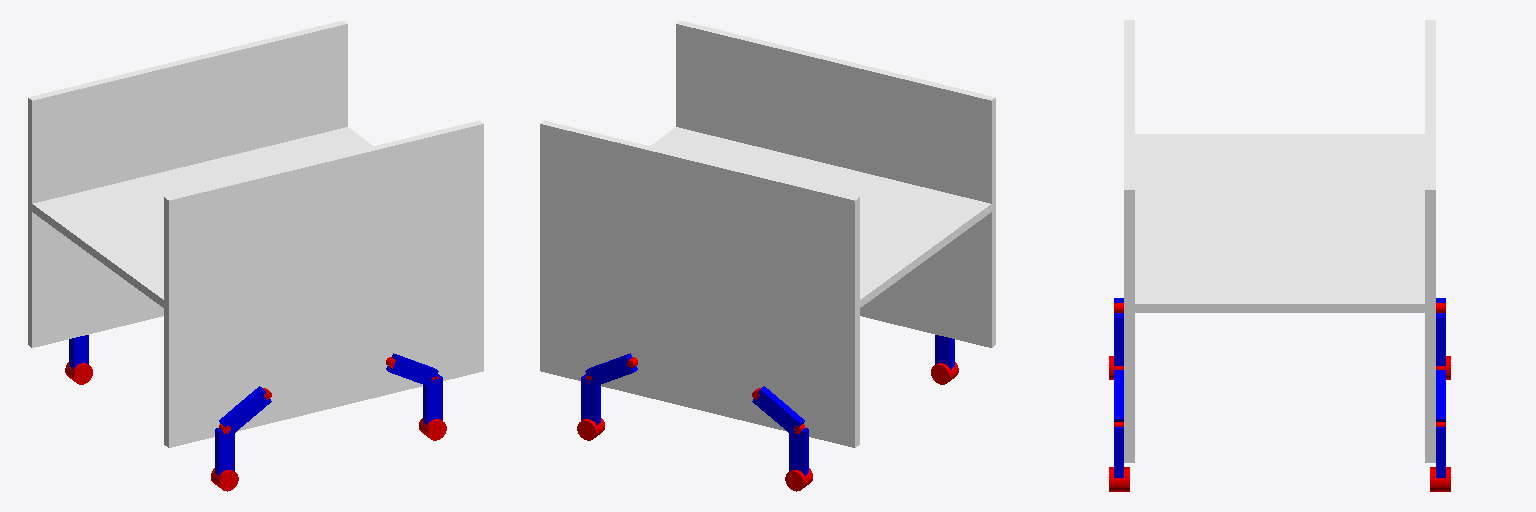
--- Render facts (derived) ---
The picture shows the robot from 3 angles, left to right: view 1: azimuth 30°, elevation 25°; view 2: azimuth 150°, elevation 25°; view 3: azimuth 270°, elevation 25°; orthographic projection.
Model anymal with 31 links and 30 joints (8 revolute, 22 fixed), rooted at base, posed every joint at zero.
Visible links, largest first — view 1: base_right, base_left, base, LF_THIGH_fixed, LH_THIGH_fixed, LF_SHANK_fixed, LH_SHANK_fixed, RF_SHANK_fixed; view 2: base_left, base_right, base, RF_THIGH_fixed, RH_THIGH_fixed, RH_SHANK_fixed, RF_SHANK_fixed, LF_SHANK_fixed; view 3: base, base_left, base_right.
Boxes of the visible links, x1,y1,x2,y2 form: base_right: (164, 120, 483, 447); base_left: (28, 21, 347, 347); base: (30, 127, 372, 309); LF_THIGH_fixed: (219, 386, 271, 435); LH_THIGH_fixed: (386, 353, 438, 385); LF_SHANK_fixed: (215, 428, 234, 475); LH_SHANK_fixed: (423, 374, 442, 424); RF_SHANK_fixed: (69, 335, 88, 369); base_left: (540, 120, 859, 447); base_right: (676, 21, 995, 347); base: (651, 127, 993, 309); RF_THIGH_fixed: (752, 386, 804, 435); RH_THIGH_fixed: (585, 353, 637, 385); RH_SHANK_fixed: (581, 374, 600, 424); RF_SHANK_fixed: (789, 428, 808, 475); LF_SHANK_fixed: (935, 335, 954, 369); base: (1130, 134, 1429, 312); base_left: (1425, 20, 1435, 462); base_right: (1124, 20, 1134, 462).
Bounding box of the posed robot: 0.02 × 0.017 × 0.0181 m (x, y, z).
Geometry: primitives only (box / cylinder / sphere), no mesh files.

URDF robot description (anymal):
<?xml version="1.0" encoding="utf-8"?>
<!-- =================================================================================== -->
<!--   Copyright 2020 ANYbotics, https://www.anybotics.com                               -->
<!-- =================================================================================== -->
<!-- This file contains the description of the ANYmal C robot. -->
<robot name="anymal">
    <!-- Base link -->
    <link name="base">
        <visual>
            <origin rpy="0 0 0" xyz="0 0 0"/>
            <geometry>
                <box size = "0.02 0.015 0.5e-3"/>
            </geometry>
            <material name="Cyan">
                <color rgba="1.0 1.0 1.0 1.0"/>
            </material>
        </visual>
        <collision>
            <origin rpy="0 0 0" xyz="0 0 0"/>
            <geometry>
                <box size = "0.02 0.015 0.013"/>
            </geometry>
        </collision>
        <inertial>
            <origin xyz="0 0 0" rpy="0 0 0"/>
            <mass value="0.539e-3"/>
            <inertia 
                ixx="31.301e-9"  
                ixy="0"  
                ixz="0" 
                iyy="41.279e-9" 
                iyz="0" 
                izz="36.6e-9" />
        </inertial>
    </link>

    <joint name="base_base_left" type="fixed">
        <parent link="base"/>lower="-0.1" upper="0.1"
        <child link="base_left"/>
        <origin rpy="-1.5707963268 0 0.0" xyz="0 -0.0075 -0.001"/>
    </joint>

    <link name="base_left">
        <visual>
            <origin rpy="0 0 0" xyz="0 0 15e-3"/>
            <geometry>
                <box size = "0.02 0.015 0.5e-3"/>
            </geometry>
            <material name="Cyan">
                <color rgba="1.0 1.0 1.0 1.0"/>
            </material>
        </visual>
        <inertial>
            <origin xyz="0 0 0" rpy="0 0 0"/>
            <mass value="0.15e-3"/>
            <inertia 
                ixx="2.82e-9"  
                ixy="0"  
                ixz="0" 
                iyy="7.81e-9" 
                iyz="0" 
                izz="5.00e-9" />
        </inertial>
    </link>

    <joint name="base_base_right" type="fixed">
        <parent link="base"/>
        <child link="base_right"/>
        <origin rpy="1.5707963268 0 0.0" xyz="0 0.0075 -0.001"/>
    </joint>

    <link name="base_right">
        <visual>
            <origin rpy="0 0 0" xyz="0 0 15e-3"/>
            <geometry>
                <box size = "0.02 0.015 0.5e-3"/>
            </geometry>
            <material name="Cyan">
                <color rgba="1.0 1.0 1.0 1.0"/>
            </material>
        </visual>
        <inertial>
            <origin xyz="0 0 0" rpy="0 0 0"/>
            <mass value="0.15e-3"/>
            <inertia 
                ixx="2.82e-9"  
                ixy="0"  
                ixz="0" 
                iyy="7.81e-9" 
                iyz="0" 
                izz="5.00e-9" />
        </inertial>
    </link>

    <!--              -->
    <!-- Left Front Leg -->
    <!--              -->

    <!-- [rad] -->
    <!-- joint base HAA -->
    <joint name="base_LF_HFE" type="fixed">
        <parent link="base_left"/>
        <child link="LF_HFE"/>
        <origin rpy="0 0 -2.0943951023931" xyz="-0.004 0.0055 -0.0005"/>
    </joint>
    <!-- [m] -->
    <!-- [A] -->
    <!-- Drive Input Link -->
    <link name="LF_HFE">
        <visual>
            <origin rpy="0 0 0" xyz="0 0 0"/>
            <geometry>
                <cylinder length="0.5e-3" radius="0.25e-3"/>
            </geometry>
            <material name="Red">
                <color rgba="1.0 0.0 0.0 1.0"/>
            </material>
        </visual>
    </link>
    <!-- joint Drive output -->
    <joint name="LF_HFE" type="revolute">
        <parent link="LF_HFE"/>
        <child link="LF_THIGH"/>
        <origin rpy="0 0 0" xyz="0 0 0"/>
        <axis xyz="0 0 1"/>
        <limit effort="80.0" velocity="20." lower="-0.1" upper="0.1"/>
        <dynamics damping="0.0" friction="0.0"/>
    </joint>
    <!-- Drive Output Link -->
    <link name="LF_THIGH">
        <visual>
            <origin rpy="0 0 0" xyz="0 0 0"/>
            <geometry>
                <cylinder length="0.5e-3" radius="0.25e-3"/>
            </geometry>
            <material name="Red">
                <color rgba="1.0 0.0 0.0 0.8"/>
            </material>
        </visual>
    </link>
    <joint name="LF_THIGH_LF_THIGH_fixed" type="fixed">
        <parent link="LF_THIGH"/>
        <child link="LF_THIGH_fixed"/>
        <origin rpy="0 0 1.5707963268" xyz="0 -1.5e-3 0"/>
    </joint>
    <link name="LF_THIGH_fixed">
        <visual>
            <origin rpy="0 0 0" xyz="0 0 0"/>
            <geometry>
                <box size = "3e-3 1e-3 0.5e-3"/>
            </geometry>
            <material name="Blue">
                <color rgba="0.0 0.0 1.0 0.8"/>
            </material>
        </visual>
        <inertial>
            <origin rpy="0 0 0" xyz="-0.06639 7e-05 0.00046"/>
            <mass value="0.002e-9"/>
        <inertia 
            ixx="0.002e-9" 
            ixy="0" 
            ixz="0" 
            iyy="0.002e-9" 
            iyz="0" 
            izz="0.002e-9"/>
        </inertial>
    </link>
    <joint name="LF_THIGH_fixed_LF_KFE" type="fixed">
        <parent link="LF_THIGH_fixed"/>
        <child link="LF_KFE"/>
        <origin rpy="0 0 0.5235987755982988" xyz="-1.5e-3 0 0"/>
    </joint>
    <!-- [m] -->
    <!-- [A] -->
    <!-- Drive Input Link -->
    <link name="LF_KFE">
        <visual>
            <origin rpy="0 0 0" xyz="0 0 0"/>
            <geometry>
                <cylinder length="0.5e-3" radius="0.25e-3"/>
            </geometry>
            <material name="Red">
                <color rgba="1.0 0.0 0.0 0.8"/>
            </material>
        </visual>
        <collision>
            <origin rpy="0 0 0" xyz="0 0 0"/>
            <geometry>
                <cylinder length="0.5e-3" radius="0.25e-3"/>
            </geometry>
        </collision>
    </link>
    <!-- joint Drive output -->
    <joint name="LF_KFE" type="revolute">
        <parent link="LF_KFE"/>
        <child link="LF_SHANK"/>
        <origin rpy="0 0 0" xyz="0 0 0"/>
        <axis xyz="0 0 1"/>
        <limit effort="80.0" velocity="20." lower="-0.1" upper="0.1"/>
        <dynamics damping="0.0" friction="0.0"/>
    </joint>
    <!-- Drive Output Link -->
    <link name="LF_SHANK">
        <visual>
            <origin rpy="0 0 0" xyz="0 0 0"/>
            <geometry>
                <cylinder length="0.5e-3" radius="0.25e-3"/>
            </geometry>
            <material name="Red">
                <color rgba="1.0 0.0 0.0 0.8"/>
            </material>
        </visual>
    </link>
    <joint name="LF_SHANK_LF_SHANK_fixed" type="fixed">
        <parent link="LF_SHANK"/>
        <child link="LF_SHANK_fixed"/>
        <origin rpy="0 0 1.5707963268" xyz="0 1.5e-3 0"/>
    </joint>
    <link name="LF_SHANK_fixed">
        <visual>
            <origin rpy="0 0 0" xyz="0 0 0"/>
            <geometry>
                <box size = "3e-3 1e-3 0.5e-3"/>
            </geometry>
            <material name="Blue">
                <color rgba="0.0 0.0 1.0 0.8"/>
            </material>
        </visual>
        <inertial>
            <origin rpy="0 0 0" xyz="-0.06639 7e-05 0.00046"/>
            <mass value="0.002e-9"/>
        <inertia 
            ixx="0.002e-9" 
            ixy="0" 
            ixz="0" 
            iyy="0.002e-9" 
            iyz="0" 
            izz="0.002e-9"/>
        </inertial>
    </link>
    <joint name="LF_SHANK_fixed_LF_Foot" type="fixed">
        <parent link="LF_SHANK_fixed"/>
        <child link="LF_Foot"/>
        <origin rpy="0 0 1.5707963268" xyz="1.5e-3 0 0"/>
    </joint>
    <link name="LF_Foot">
        <visual>
            <origin rpy="0 0 0" xyz="0 0 0"/>
            <geometry>
                <cylinder length="1e-3" radius="0.6e-3"/>
            </geometry>
            <material name="Red">
                <color rgba="1.0 0.0 0.0 0.8"/>
            </material>
        </visual>
        <collision>
            <origin rpy="0 0 0" xyz="0 0 0"/>
            <geometry>
                <cylinder length="1e-3" radius="0.6e-3"/>
            </geometry>
        </collision>
    </link>


    <!--                  -->
    <!-- Left Hind Leg -->
    <!--                  -->

    <!-- [rad] -->
    <!-- joint base HAA -->
    <joint name="base_LH_HFE" type="fixed">
        <parent link="base_left"/>
        <child link="LH_HFE"/>
        <origin rpy="0 0 2.0943951023931" xyz="0.004 0.0055 -0.0005"/>
    </joint>
    <!-- [m] -->
    <!-- [A] -->
    <!-- Drive Input Link -->
    <link name="LH_HFE">
        <visual>
            <origin rpy="0 0 0" xyz="0 0 0"/>
            <geometry>
                <cylinder length="0.5e-3" radius="0.25e-3"/>
            </geometry>
            <material name="Red">
                <color rgba="1.0 0.0 0.0 1.0"/>
            </material>
        </visual>
    </link>
    <!-- joint Drive output -->
    <joint name="LH_HFE" type="revolute">
        <parent link="LH_HFE"/>
        <child link="LH_THIGH"/>
        <origin rpy="0 0 0" xyz="0 0 0"/>
        <axis xyz="0 0 1"/>
        <limit effort="80.0" velocity="20." lower="-0.1" upper="0.1"/>
        <dynamics damping="0.0" friction="0.0"/>
    </joint>
    <!-- Drive Output Link -->
    <link name="LH_THIGH">
        <visual>
            <origin rpy="0 0 0" xyz="0 0 0"/>
            <geometry>
                <cylinder length="0.5e-3" radius="0.25e-3"/>
            </geometry>
            <material name="Red">
                <color rgba="1.0 0.0 0.0 0.8"/>
            </material>
        </visual>
    </link>
    <joint name="LH_THIGH_LH_THIGH_fixed" type="fixed">
        <parent link="LH_THIGH"/>
        <child link="LH_THIGH_fixed"/>
        <origin rpy="0 0 1.5707963268" xyz="0 -1.5e-3 0"/>
    </joint>
    <link name="LH_THIGH_fixed">
        <visual>
            <origin rpy="0 0 0" xyz="0 0 0"/>
            <geometry>
                <box size = "3e-3 1e-3 0.5e-3"/>
            </geometry>
            <material name="Blue">
                <color rgba="0.0 0.0 1.0 0.8"/>
            </material>
        </visual>
        <inertial>
            <origin rpy="0 0 0" xyz="-0.06639 7e-05 0.00046"/>
            <mass value="0.002e-9"/>
        <inertia 
            ixx="0.002e-9" 
            ixy="0" 
            ixz="0" 
            iyy="0.002e-9" 
            iyz="0" 
            izz="0.002e-9"/>
        </inertial>
    </link>
    <joint name="LH_THIGH_fixed_LH_KFE" type="fixed">
        <parent link="LH_THIGH_fixed"/>
        <child link="LH_KFE"/>
        <origin rpy="0 0 2.6179938779914" xyz="-1.5e-3 0 0"/>
    </joint>
    <!-- [m] -->
    <!-- [A] -->
    <!-- Drive Input Link -->
    <link name="LH_KFE">
        <visual>
            <origin rpy="0 0 0" xyz="0 0 0"/>
            <geometry>
                <cylinder length="0.5e-3" radius="0.25e-3"/>
            </geometry>
            <material name="Red">
                <color rgba="1.0 0.0 0.0 0.8"/>
            </material>
        </visual>
        <collision>
            <origin rpy="0 0 0" xyz="0 0 0"/>
            <geometry>
                <cylinder length="0.5e-3" radius="0.25e-3"/>
            </geometry>
        </collision>
    </link>
    <!-- joint Drive output -->
    <joint name="LH_KFE" type="revolute">
        <parent link="LH_KFE"/>
        <child link="LH_SHANK"/>
        <origin rpy="0 0 0" xyz="0 0 0"/>
        <axis xyz="0 0 1"/>
        <limit effort="80.0" velocity="20." lower="-0.1" upper="0.1"/>
        <dynamics damping="0.0" friction="0.0"/>
    </joint>
    <!-- Drive Output Link -->
    <link name="LH_SHANK">
        <visual>
            <origin rpy="0 0 0" xyz="0 0 0"/>
            <geometry>
                <cylinder length="0.5e-3" radius="0.25e-3"/>
            </geometry>base
            <material name="Red">
                <color rgba="1.0 0.0 0.0 0.8"/>
            </material>
        </visual>
    </link>
    <joint name="LH_SHANK_LH_SHANK_fixed" type="fixed">
        <parent link="LH_SHANK"/>
        <child link="LH_SHANK_fixed"/>
        <origin rpy="0 0 1.5707963268" xyz="0 1.5e-3 0"/>
    </joint>
    <link name="LH_SHANK_fixed">
        <visual>
            <origin rpy="0 0 0" xyz="0 0 0"/>
            <geometry>
                <box size = "3e-3 1e-3 0.5e-3"/>
            </geometry>
            <material name="Blue">
                <color rgba="0.0 0.0 1.0 0.8"/>
            </material>
        </visual>
        <inertial>
            <origin rpy="0 0 0" xyz="-0.06639 7e-05 0.00046"/>
            <mass value="0.002e-9"/>
        <inertia 
            ixx="0.002e-9" 
            ixy="0" 
            ixz="0" 
            iyy="0.002e-9" 
            iyz="0" 
            izz="0.002e-9"/>
        </inertial>
    </link>
    <joint name="LH_SHANK_fixed_LH_Foot" type="fixed">
        <parent link="LH_SHANK_fixed"/>
        <child link="LH_Foot"/>
        <origin rpy="0 0 1.5707963268" xyz="1.5e-3 0 0"/>
    </joint>
    <link name="LH_Foot">
        <visual>
            <origin rpy="0 0 0" xyz="0 0 0"/>
            <geometry>
                <cylinder length="1e-3" radius="0.6e-3"/>
            </geometry>
            <material name="Red">
                <color rgba="1.0 0.0 0.0 0.8"/>
            </material>
        </visual>
        <collision>
            <origin rpy="0 0 0" xyz="0 0 0"/>
            <geometry>
                <cylinder length="1e-3" radius="0.6e-3"/>
            </geometry>
        </collision>
    </link>

    <!--                  -->
    <!-- Right Front Leg -->
    <!--                  -->

    <!-- [rad] -->
    <!-- joint base HAA -->
    <joint name="base_RF_HFE" type="fixed">
        <parent link="base_right"/>
        <child link="RF_HFE"/>
        <origin rpy="0 0 2.0943951023931 " xyz="-0.004 -0.0055 -0.0005"/>
    </joint>
    <!-- [m] -->
    <!-- [A] -->
    <!-- Drive Input Link -->
    <link name="RF_HFE">
        <visual>
            <origin rpy="0 0 0" xyz="0 0 0"/>
            <geometry>
                <cylinder length="0.5e-3" radius="0.25e-3"/>
            </geometry>
            <material name="Red">
                <color rgba="1.0 0.0 0.0 1.0"/>
            </material>
        </visual>
    </link>
    <!-- joint Drive output -->
    <joint name="RF_HFE" type="revolute">
        <parent link="RF_HFE"/>
        <child link="RF_THIGH"/>
        <origin rpy="0 0 0" xyz="0 0 0"/>
        <axis xyz="0 0 1"/>
        <limit effort="80.0" velocity="20." lower="-0.1" upper="0.1"/>
        <dynamics damping="0.0" friction="0.0"/>
    </joint>
    <!-- Drive Output Link -->
    <link name="RF_THIGH">
        <visual>
            <origin rpy="0 0 0" xyz="0 0 0"/>
            <geometry>
                <cylinder length="0.5e-3" radius="0.25e-3"/>
            </geometry>
            <material name="Red">
                <color rgba="1.0 0.0 0.0 0.8"/>
            </material>
        </visual>
    </link>
    <joint name="RF_THIGH_RH_THIGH_fixed" type="fixed">
        <parent link="RF_THIGH"/>
        <child link="RF_THIGH_fixed"/>
        <origin rpy="0 0 -1.5707963268" xyz="0 1.5e-3 0"/>
    </joint>
    <link name="RF_THIGH_fixed">
        <visual>
            <origin rpy="0 0 0" xyz="0 0 0"/>
            <geometry>
                <box size = "3e-3 1e-3 0.5e-3"/>
            </geometry>
            <material name="Blue">
                <color rgba="0.0 0.0 1.0 0.8"/>
            </material>
        </visual>
        <inertial>
            <origin rpy="0 0 0" xyz="-0.06639 7e-05 0.00046"/>
            <mass value="0.002e-9"/>
        <inertia 
            ixx="0.002e-9" 
            ixy="0" 
            ixz="0" 
            iyy="0.002e-9" 
            iyz="0" 
            izz="0.002e-9"/>
        </inertial>
    </link>
    <joint name="RF_THIGH_fixed_RH_KFE" type="fixed">
        <parent link="RF_THIGH_fixed"/>
        <child link="RF_KFE"/>
        <origin rpy="0 0 2.61799387799" xyz="-1.5e-3 0 0"/>
    </joint>
    <!-- [m] -->
    <!-- [A] -->
    <!-- Drive Input Link -->
    <link name="RF_KFE">
        <visual>
            <origin rpy="0 0 0" xyz="0 0 0"/>
            <geometry>
                <cylinder length="0.5e-3" radius="0.25e-3"/>
            </geometry>
            <material name="Red">
                <color rgba="1.0 0.0 0.0 0.8"/>
            </material>
        </visual>
        <collision>
            <origin rpy="0 0 0" xyz="0 0 0"/>
            <geometry>
                <cylinder length="0.5e-3" radius="0.25e-3"/>
            </geometry>
        </collision>
    </link>
    <!-- joint Drive output -->
    <joint name="RF_KFE" type="revolute">
        <parent link="RF_KFE"/>
        <child link="RF_SHANK"/>
        <origin rpy="0 0 0" xyz="0 0 0"/>
        <axis xyz="0 0 1"/>
        <limit effort="80.0" velocity="20." lower="-0.1" upper="0.1"/>
        <dynamics damping="0.0" friction="0.0"/>
    </joint>
    <!-- Drive Output Link -->
    <link name="RF_SHANK">
        <visual>
            <origin rpy="0 0 0" xyz="0 0 0"/>
            <geometry>
                <cylinder length="0.5e-3" radius="0.25e-3"/>
            </geometry>
            <material name="Red">
                <color rgba="1.0 0.0 0.0 0.8"/>
            </material>
        </visual>
    </link>
    <joint name="RF_SHANK_RH_SHANK_fixed" type="fixed">
        <parent link="RF_SHANK"/>
        <child link="RF_SHANK_fixed"/>
        <origin rpy="0 0 1.5707963268" xyz="0 1.5e-3 0"/>
    </joint>
    <link name="RF_SHANK_fixed">
        <visual>
            <origin rpy="0 0 0" xyz="0 0 0"/>
            <geometry>
                <box size = "3e-3 1e-3 0.5e-3"/>
            </geometry>
            <material name="Blue">
                <color rgba="0.0 0.0 1.0 0.8"/>
            </material>
        </visual>
        <inertial>
            <origin rpy="0 0 0" xyz="-0.06639 7e-05 0.00046"/>
            <mass value="0.002e-9"/>
        <inertia 
            ixx="0.002e-9" 
            ixy="0" 
            ixz="0" 
            iyy="0.002e-9" 
            iyz="0" 
            izz="0.002e-9"/>
        </inertial>
    </link>
    <joint name="RF_SHANK_fixed_RH_Foot" type="fixed">
        <parent link="RF_SHANK_fixed"/>
        <child link="RF_Foot"/>
        <origin rpy="0 0 1.5707963268" xyz="1.5e-3 0 0"/>
    </joint>
    <link name="RF_Foot">
        <visual>
            <origin rpy="0 0 0" xyz="0 0 0"/>
            <geometry>
                <cylinder length="1e-3" radius="0.6e-3"/>
            </geometry>
            <material name="Red">
                <color rgba="1.0 0.0 0.0 0.8"/>
            </material>
        </visual>
        <collision>
            <origin rpy="0 0 0" xyz="0 0 0"/>
            <geometry>
                <cylinder length="1e-3" radius="0.6e-3"/>
            </geometry>
        </collision>
    </link>

    <!--                  -->
    <!-- Right Hind Leg -->
    <!--                  -->

    <!-- [rad] -->
    <!-- joint base HAA -->
    <joint name="base_RH_HFE" type="fixed">
        <parent link="base_right"/>
        <child link="RH_HFE"/>
        <origin rpy="0 0 -2.0943951023931" xyz="0.004 -0.0055 -0.0005"/>
    </joint>
    <!-- [m] -->
    <!-- [A] -->
    <!-- Drive Input Link -->
    <link name="RH_HFE">
        <visual>
            <origin rpy="0 0 0" xyz="0 0 0"/>
            <geometry>
                <cylinder length="0.5e-3" radius="0.25e-3"/>
            </geometry>
            <material name="Red">
                <color rgba="1.0 0.0 0.0 1.0"/>
            </material>
        </visual>
    </link>
    <!-- joint Drive output -->
    <joint name="RH_HFE" type="revolute">
        <parent link="RH_HFE"/>
        <child link="RH_THIGH"/>
        <origin rpy="0 0 0" xyz="0 0 0"/>
        <axis xyz="0 0 1"/>
        <limit effort="80.0" velocity="20." lower="-0.1" upper="0.1"/>
        <dynamics damping="0.0" friction="0.0"/>
    </joint>
    <!-- Drive Output Link -->
    <link name="RH_THIGH">
        <visual>
            <origin rpy="0 0 0" xyz="0 0 0"/>
            <geometry>
                <cylinder length="0.5e-3" radius="0.25e-3"/>
            </geometry>
            <material name="Red">
                <color rgba="1.0 0.0 0.0 0.8"/>
            </material>
        </visual>
    </link>
    <joint name="RH_THIGH_RH_THIGH_fixed" type="fixed">
        <parent link="RH_THIGH"/>
        <child link="RH_THIGH_fixed"/>
        <origin rpy="0 0 -1.5707963268" xyz="0 1.5e-3 0"/>
    </joint>
    <link name="RH_THIGH_fixed">
        <visual>
            <origin rpy="0 0 0" xyz="0 0 0"/>
            <geometry>
                <box size = "3e-3 1e-3 0.5e-3"/>
            </geometry>
            <material name="Blue">
                <color rgba="0.0 0.0 1.0 0.8"/>
            </material>
        </visual>
        <inertial>
            <origin rpy="0 0 0" xyz="-0.06639 7e-05 0.00046"/>
            <mass value="0.002e-9"/>
        <inertia 
            ixx="0.002e-9" 
            ixy="0" 
            ixz="0" 
            iyy="0.002e-9" 
            iyz="0" 
            izz="0.002e-9"/>
        </inertial>
    </link>
    <joint name="RH_THIGH_fixed_RH_KFE" type="fixed">
        <parent link="RH_THIGH_fixed"/>
        <child link="RH_KFE"/>
        <origin rpy="0 0 0.5235987755982988" xyz="-1.5e-3 0 0"/>
    </joint>
    <!-- [m] -->
    <!-- [A] -->
    <!-- Drive Input Link -->
    <link name="RH_KFE">
        <visual>
            <origin rpy="0 0 0" xyz="0 0 0"/>
            <geometry>
                <cylinder length="0.5e-3" radius="0.25e-3"/>
            </geometry>
            <material name="Red">
                <color rgba="1.0 0.0 0.0 0.8"/>
            </material>
        </visual>
        <collision>
            <origin rpy="0 0 0" xyz="0 0 0"/>
            <geometry>
                <cylinder length="0.5e-3" radius="0.25e-3"/>
            </geometry>
        </collision>
    </link>
    <!-- joint Drive output -->
    <joint name="RH_KFE" type="revolute">
        <parent link="RH_KFE"/>
        <child link="RH_SHANK"/>
        <origin rpy="0 0 0" xyz="0 0 0"/>
        <axis xyz="0 0 1"/>
        <limit effort="80.0" velocity="20." lower="-0.1" upper="0.1"/>
        <dynamics damping="0.0" friction="0.0"/>
    </joint>
    <!-- Drive Output Link -->
    <link name="RH_SHANK">
        <visual>
            <origin rpy="0 0 0" xyz="0 0 0"/>
            <geometry>
                <cylinder length="0.5e-3" radius="0.25e-3"/>
            </geometry>
            <material name="Red">
                <color rgba="1.0 0.0 0.0 0.8"/>
            </material>
        </visual>
    </link>
    <joint name="RH_SHANK_RH_SHANK_fixed" type="fixed">
        <parent link="RH_SHANK"/>
        <child link="RH_SHANK_fixed"/>
        <origin rpy="0 0 1.5707963268" xyz="0 1.5e-3 0"/>
    </joint>
    <link name="RH_SHANK_fixed">
        <visual>
            <origin rpy="0 0 0" xyz="0 0 0"/>
            <geometry>
                <box size = "3e-3 1e-3 0.5e-3"/>
            </geometry>
            <material name="Blue">
                <color rgba="0.0 0.0 1.0 0.8"/>
            </material>
        </visual>
        <inertial>
            <origin rpy="0 0 0" xyz="-0.06639 7e-05 0.00046"/>
            <mass value="0.002e-9"/>
        <inertia 
            ixx="0.002e-9" 
            ixy="0" 
            ixz="0" 
            iyy="0.002e-9" 
            iyz="0" 
            izz="0.002e-9"/>
        </inertial>
    </link>
    <joint name="RH_SHANK_fixed_RH_Foot" type="fixed">
        <parent link="RH_SHANK_fixed"/>
        <child link="RH_Foot"/>
        <origin rpy="0 0 1.5707963268" xyz="1.5e-3 0 0"/>
    </joint>
    <link name="RH_Foot">
        <visual>
            <origin rpy="0 0 0" xyz="0 0 0"/>
            <geometry>
                <cylinder length="1e-3" radius="0.6e-3"/>
            </geometry>
            <material name="Red">
                <color rgba="1.0 0.0 0.0 0.8"/>
            </material>
        </visual>
        <collision>
            <origin rpy="0 0 0" xyz="0 0 0"/>
            <geometry>
                <cylinder length="1e-3" radius="0.6e-3"/>
            </geometry>
        </collision>
    </link>
</robot>
